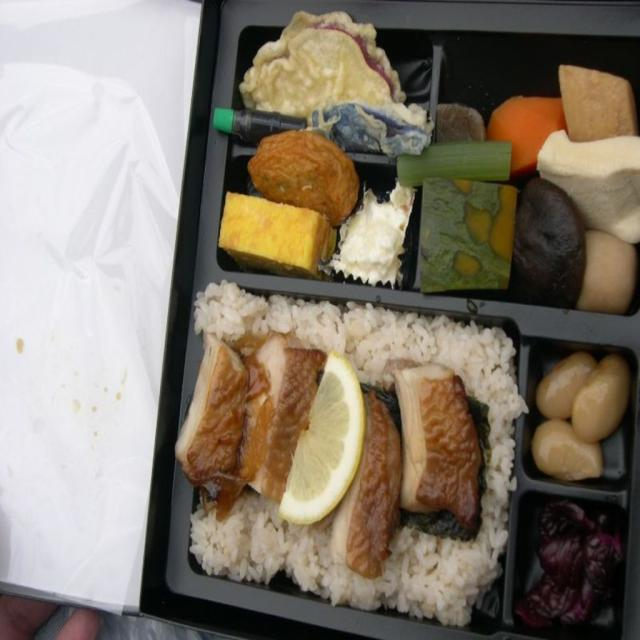Lemon: (280, 353, 366, 524)
